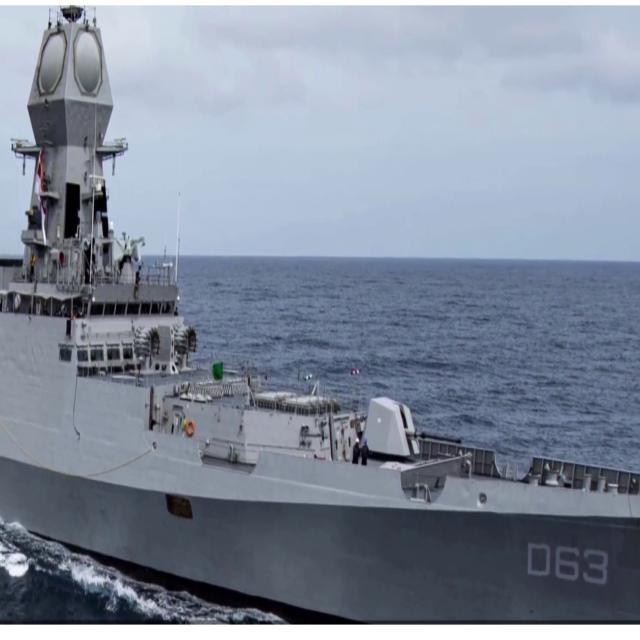OCR: (524, 536, 613, 591)
